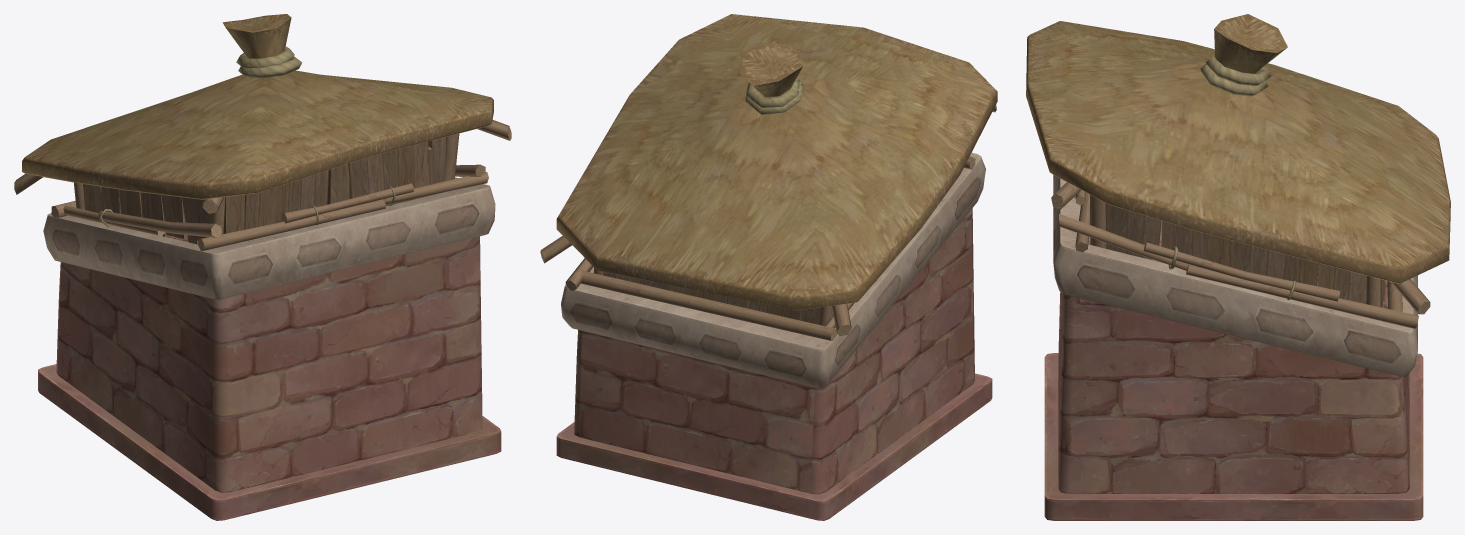
Rendered from Homeworld_Exterior_Xm_Build_Arvillage_05_Lod0.fbx.
3 renders of one model, left to right at view 1: azimuth 30°, elevation 25°; view 2: azimuth 150°, elevation 25°; view 3: azimuth 270°, elevation 25°, orthographic. The views are drawn at different scales.
Parts seen in each view (by area): view 1: Area_Xm_Build_ARC_House_E_01_Lod0; view 2: Area_Xm_Build_ARC_House_E_01_Lod0; view 3: Area_Xm_Build_ARC_House_E_01_Lod0.
Boxes of the visible parts, <box> form: Area_Xm_Build_ARC_House_E_01_Lod0: <box>14,14,511,520</box>; Area_Xm_Build_ARC_House_E_01_Lod0: <box>540,14,997,520</box>; Area_Xm_Build_ARC_House_E_01_Lod0: <box>1026,14,1450,520</box>.
Size of the model in its own units: 4.25 by 4.73 by 4.35.
